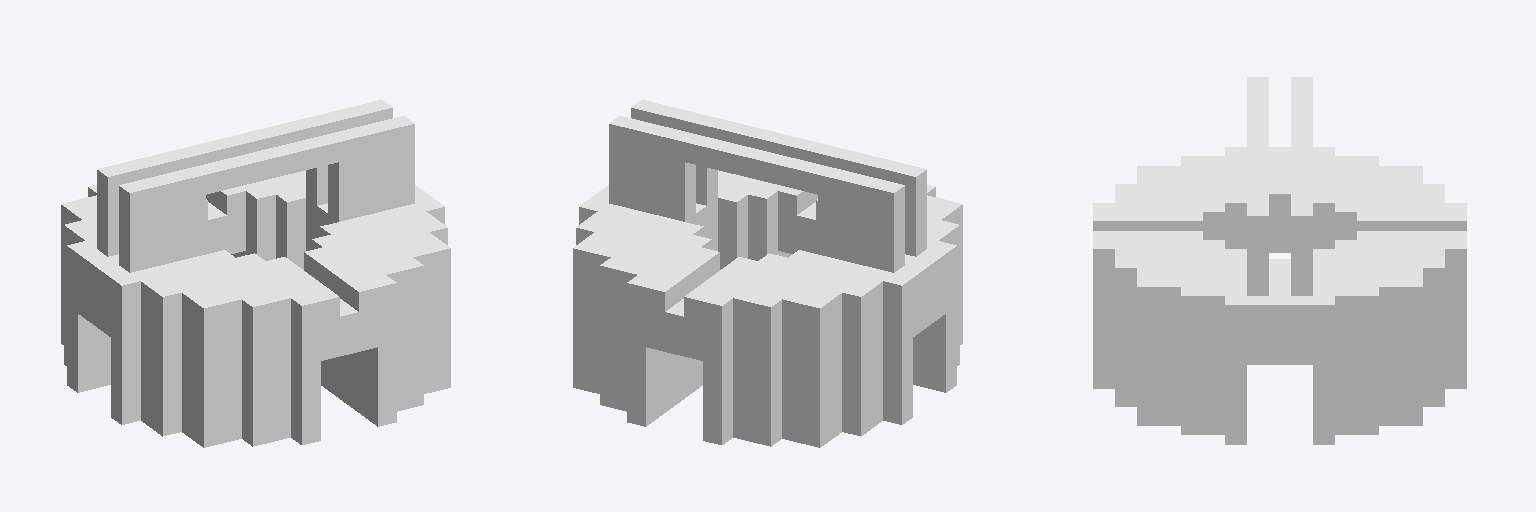
File: building0.obj
3 views of the same model, side by side, from view 1: azimuth 30°, elevation 25°; view 2: azimuth 150°, elevation 25°; view 3: azimuth 270°, elevation 25° (orthographic).
Size of the model in its own units: 17 by 11 by 17.